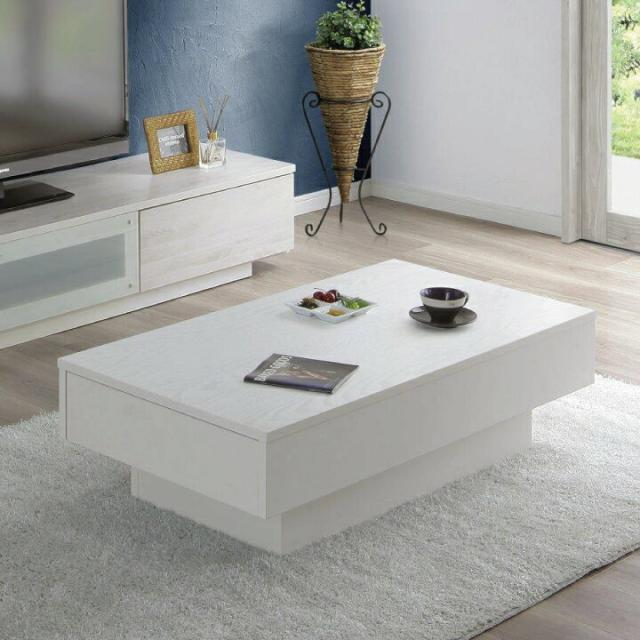white desk: (55, 257, 600, 556)
